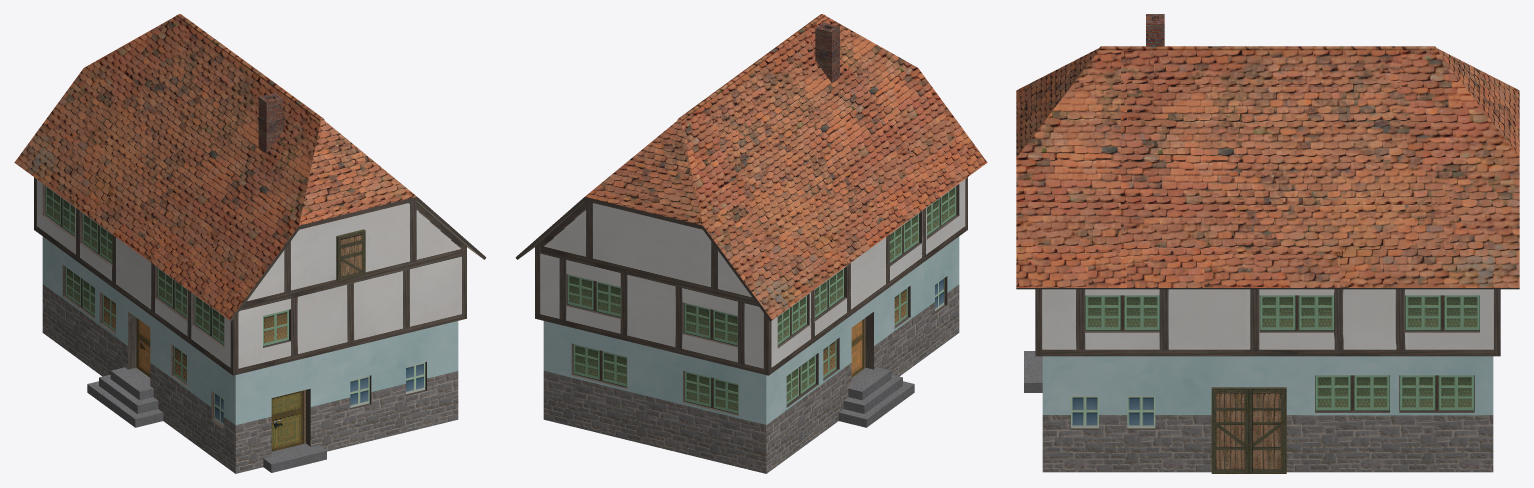
The model's file is city_house_3.obj.
3 views of the same model, side by side, from view 1: azimuth 30°, elevation 25°; view 2: azimuth 150°, elevation 25°; view 3: azimuth 270°, elevation 25° (orthographic). The views are drawn at different scales.
Visible parts, largest first — view 1: houseF_mesh; view 2: houseF_mesh; view 3: houseF_mesh.
Boxes of the visible parts, x1,y1,x2,y2 form: houseF_mesh: (14, 14, 486, 473); houseF_mesh: (515, 14, 987, 473); houseF_mesh: (1016, 14, 1519, 473).
Size of the model in its own units: 9.61 by 11 by 13.4.
Materials: 1 (1 with a texture image).
